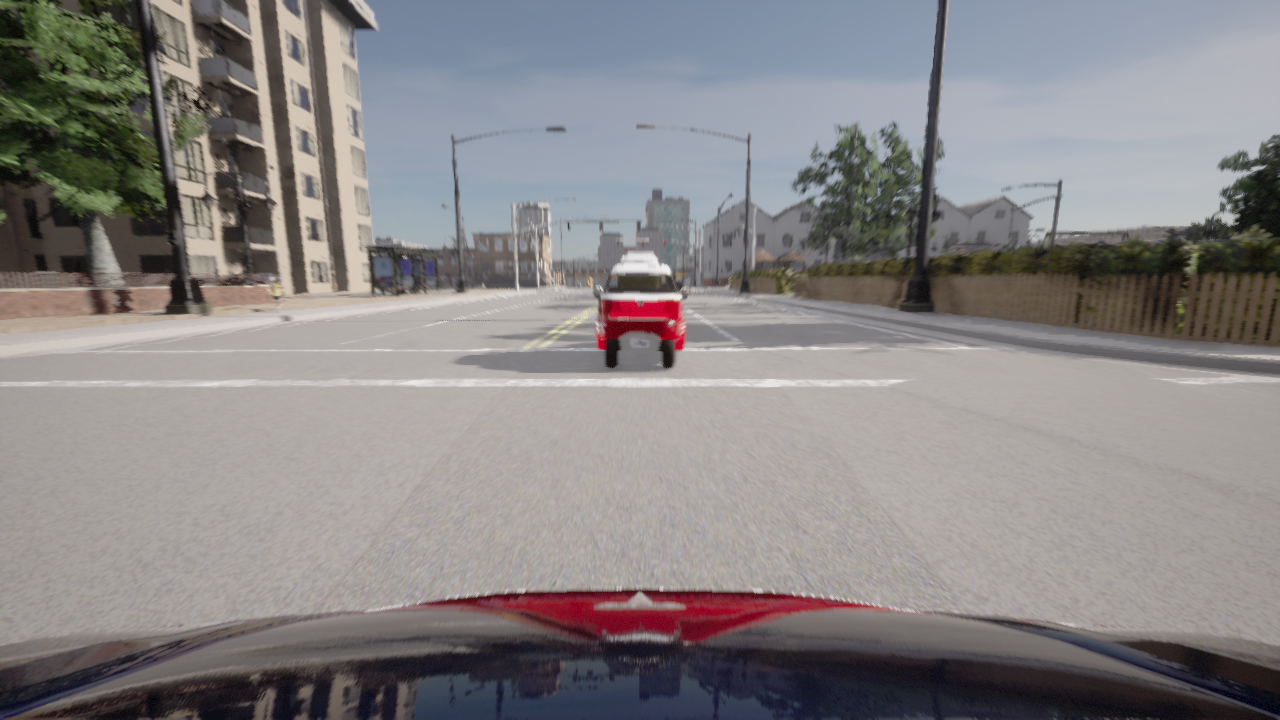cyclist: (0, 588, 1279, 719), (593, 263, 689, 368), (620, 256, 658, 263), (626, 253, 653, 256)
pedestrian: (267, 278, 283, 312), (671, 271, 682, 289)
